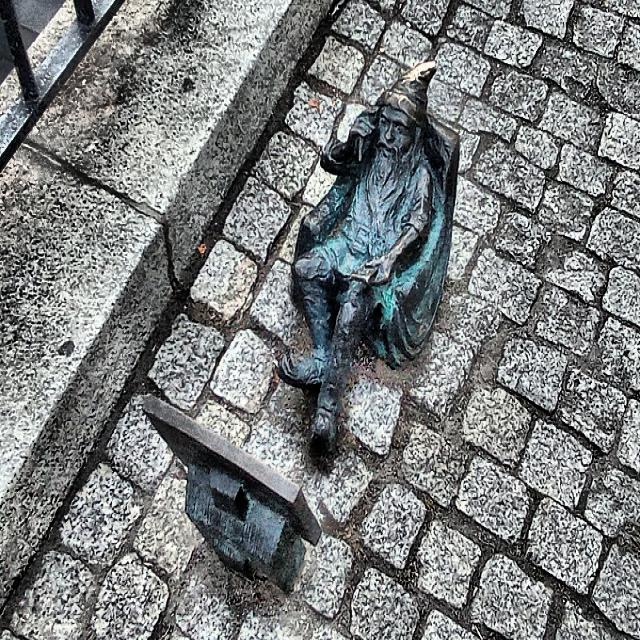Dialogomir: (275, 63, 459, 455), (140, 399, 320, 598)
